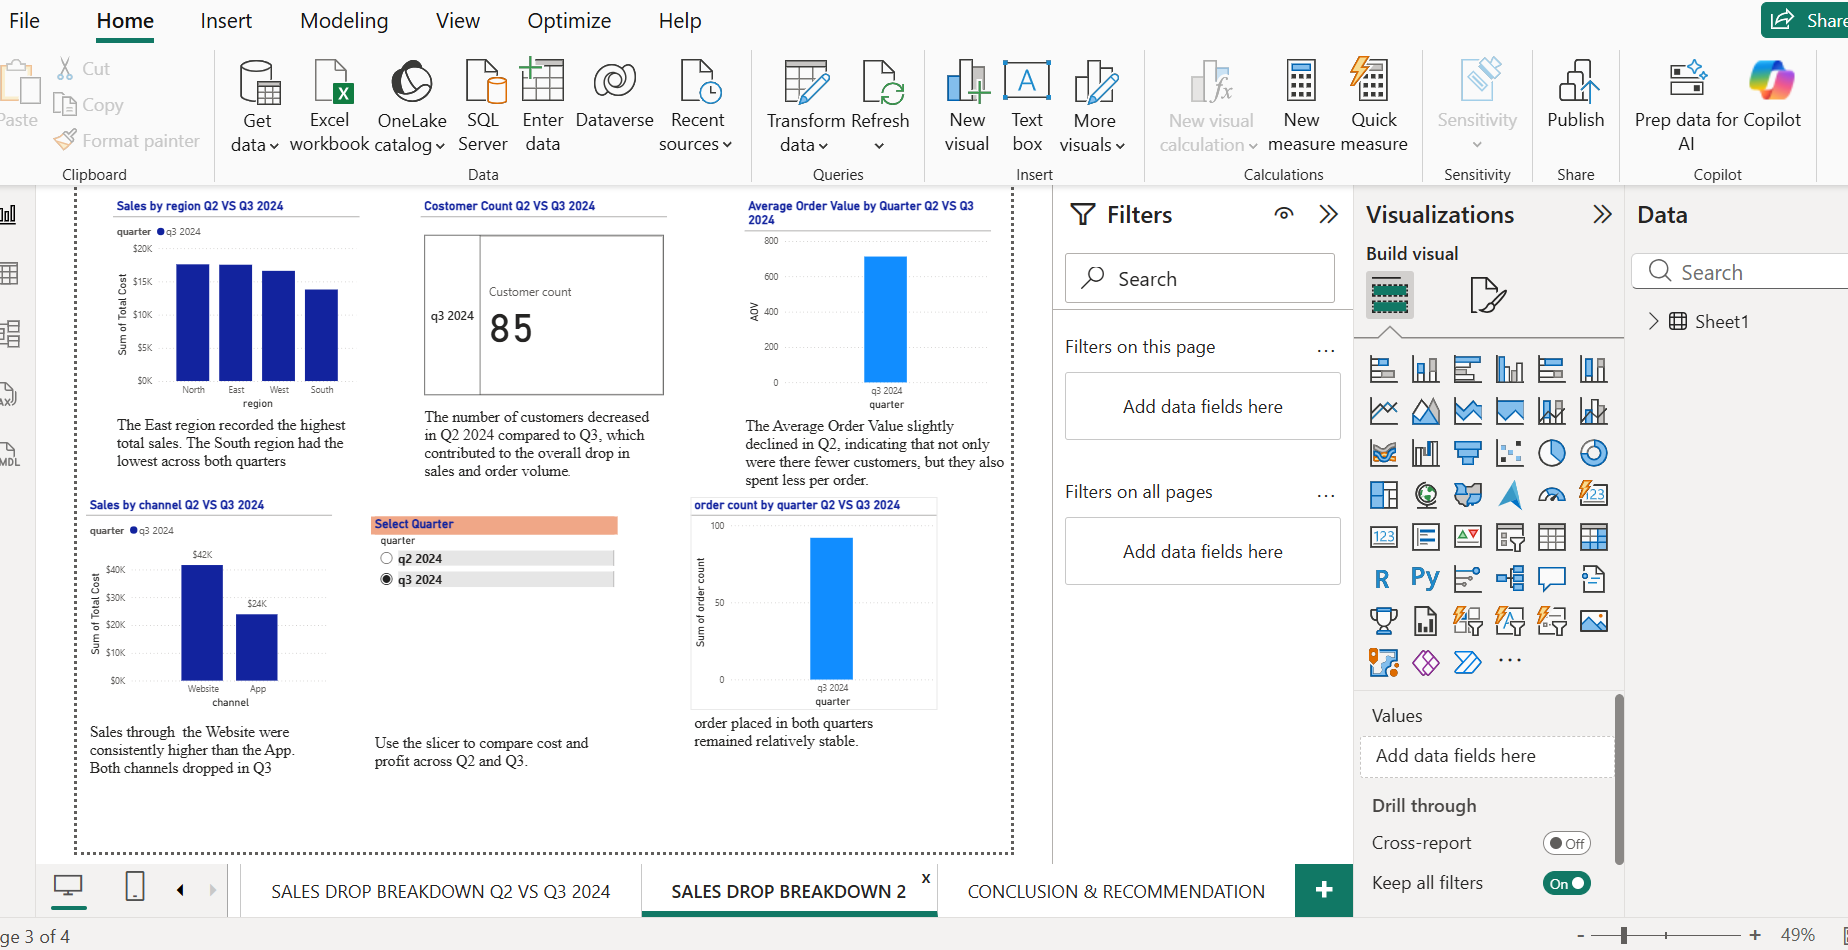

What the dashboard file says about the page in this screenshot:
{"tool":"powerbi","page":{"name":"SALES DROP BREAKDOWN 2","canvas":[1280,914],"ordinal":2},"visuals":[{"type":"clusteredColumnChart","title":"Sales by region Q2 VS Q3 2024","fields":{"Category":["Sheet1.region"],"Y":["Sum(Sheet1.total cost)"],"Series":["Sheet1.quarter"]},"box":[49.4,18.3,338.2,292.5],"z":0},{"type":"clusteredColumnChart","title":"Sales by channel Q2 VS Q3 2024","fields":{"Category":["Sheet1.channel"],"Y":["Sum(Sheet1.total cost)"],"Series":["Sheet1.quarter"]},"box":[11.8,426.7,337.6,294],"z":1000},{"type":"cardVisual","title":"Costomer Count Q2 VS Q3 2024","fields":{"Data":["Sheet1.Customer count"],"Rows":["Sheet1.quarter"]},"box":[469.8,18.3,338.2,294.3],"z":2000},{"type":"slicer","title":"Select Quarter","fields":{"Values":["Sheet1.quarter"]},"box":[402.2,453.3,338.2,292.5],"z":3000},{"type":"clusteredColumnChart","title":"Average Order Value by Quarter Q2 VS Q3 2024","fields":{"Y":["Sheet1.AOV"],"Category":["Sheet1.quarter"]},"box":[914,18.3,338.2,294.3],"z":4000},{"type":"clusteredColumnChart","title":"order count by quarter Q2 VS Q3 2024","fields":{"Category":["Sheet1.quarter"],"Y":["Sum(Sheet1.order count)"]},"box":[840.9,427.8,338.2,292.5],"z":5000},{"type":"textbox","box":[49.4,310.8,336.4,107.9],"z":6000},{"type":"textbox","box":[12.8,731.2,336.4,102.4],"z":7000},{"type":"textbox","box":[469.8,299.8,338.2,118.8],"z":8000},{"type":"textbox","box":[910.3,312.6,369.3,113.3],"z":9000},{"type":"textbox","box":[840.9,720.2,338.2,102.4],"z":10000},{"type":"textbox","box":[402.2,745.8,305.3,76.8],"z":11000}]}

Visuals, with their boxes on the page's 1280x914 design canvas (x1, y1, x2, y2). These are canvas units, not pixel positions in the 1848x950 screenshot, which may show the page scaled, cropped or inside an application window:
"Sales by region Q2 VS Q3 2024" clusteredColumnChart: <bbox>49, 18, 388, 311</bbox>
"Sales by channel Q2 VS Q3 2024" clusteredColumnChart: <bbox>12, 427, 349, 721</bbox>
"Costomer Count Q2 VS Q3 2024" cardVisual: <bbox>470, 18, 808, 313</bbox>
"Select Quarter" slicer: <bbox>402, 453, 740, 746</bbox>
"Average Order Value by Quarter Q2 VS Q3 2024" clusteredColumnChart: <bbox>914, 18, 1252, 313</bbox>
"order count by quarter Q2 VS Q3 2024" clusteredColumnChart: <bbox>841, 428, 1179, 720</bbox>
textbox: <bbox>49, 311, 386, 419</bbox>
textbox: <bbox>13, 731, 349, 834</bbox>
textbox: <bbox>470, 300, 808, 419</bbox>
textbox: <bbox>910, 313, 1280, 426</bbox>
textbox: <bbox>841, 720, 1179, 823</bbox>
textbox: <bbox>402, 746, 708, 823</bbox>
